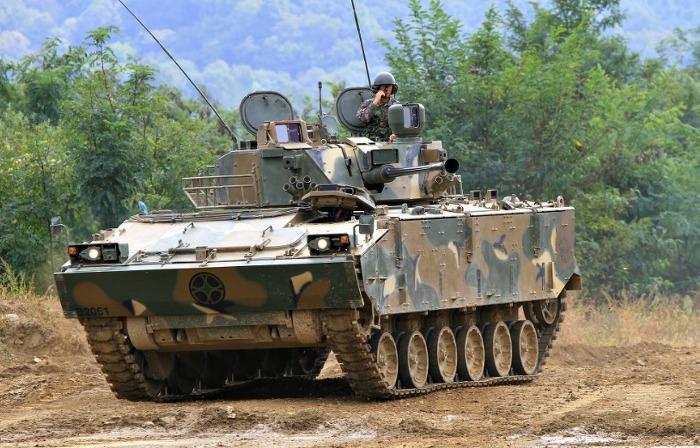MIL_IFV: (53, 68, 587, 407)
